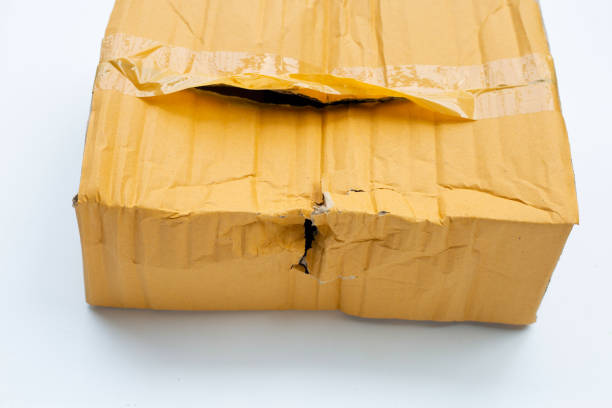damaged package: (117, 26, 489, 129), (277, 176, 378, 294)
